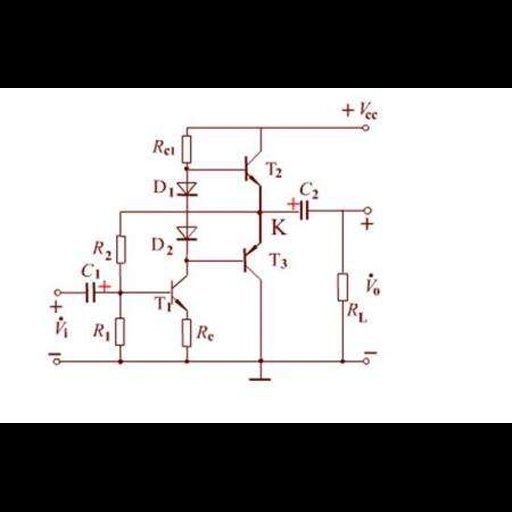firstpolarcapacitor: (79, 279, 113, 305), (283, 195, 313, 223)
firstresistance: (112, 315, 134, 350), (178, 133, 200, 165), (334, 268, 351, 303), (178, 317, 195, 350), (115, 231, 130, 265)
npn: (240, 145, 265, 190), (166, 274, 193, 310)
pnp: (232, 237, 268, 283)
seconddiode: (175, 178, 200, 200), (174, 223, 201, 243)
